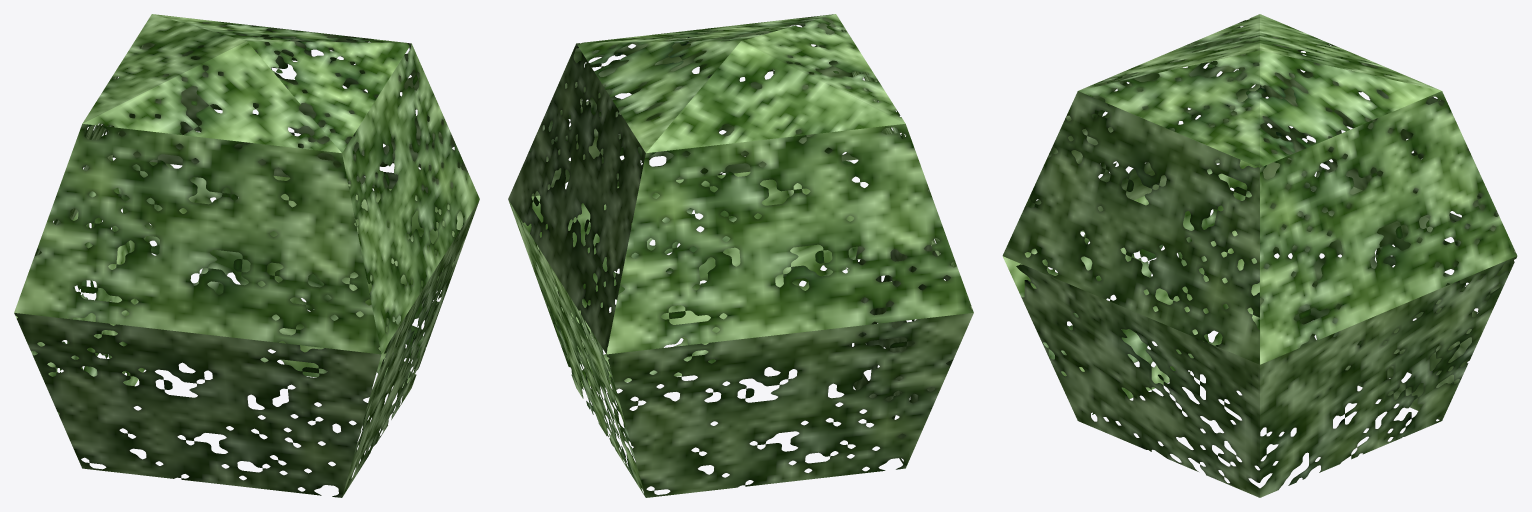
The model's file is bush_end_summer.fbx.
3 views of the same model, side by side, from view 1: azimuth 30°, elevation 25°; view 2: azimuth 150°, elevation 25°; view 3: azimuth 270°, elevation 25° (orthographic). The views are drawn at different scales.
Visible parts, largest first — view 1: bush_end_summer; view 2: bush_end_summer; view 3: bush_end_summer.
Boxes of the visible parts, box(x1,y1,x2,y2) form: bush_end_summer: box(14, 14, 479, 497); bush_end_summer: box(508, 14, 973, 497); bush_end_summer: box(1002, 14, 1517, 497).
Size of the model in its own units: 139 by 110 by 139.
1 material, 1 textured.
